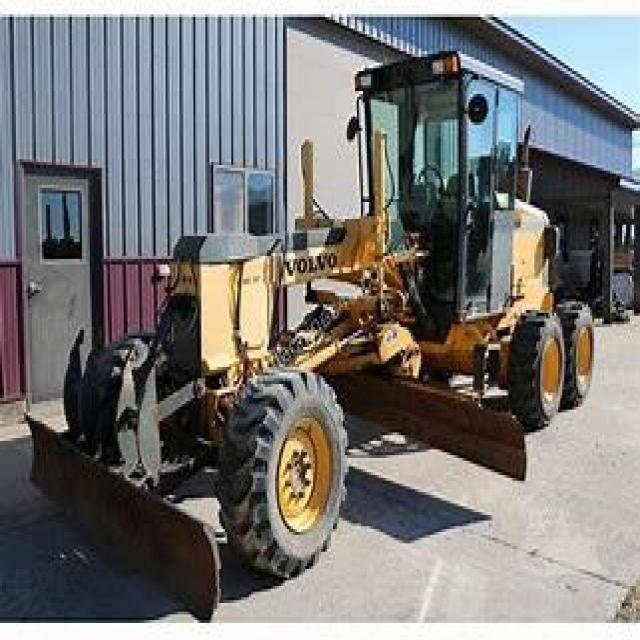buldozerpayloadergrader: (20, 57, 624, 580)
